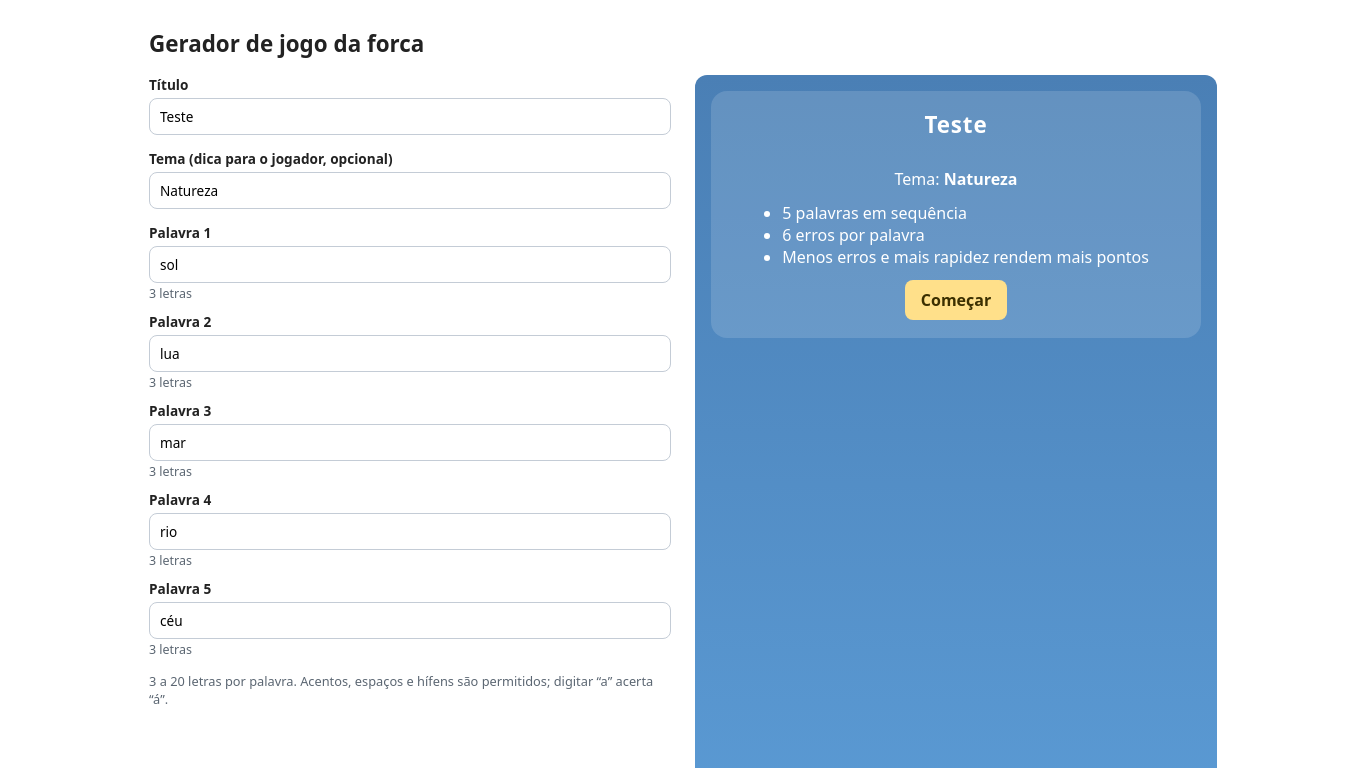
Test case: forca como módulo › palavra inválida desabilita o Salvar
The image size is (1366, 768).
Replace the text in the field labelled "Palavra 1" with "ab": (410, 264) [149, 246, 671, 283]
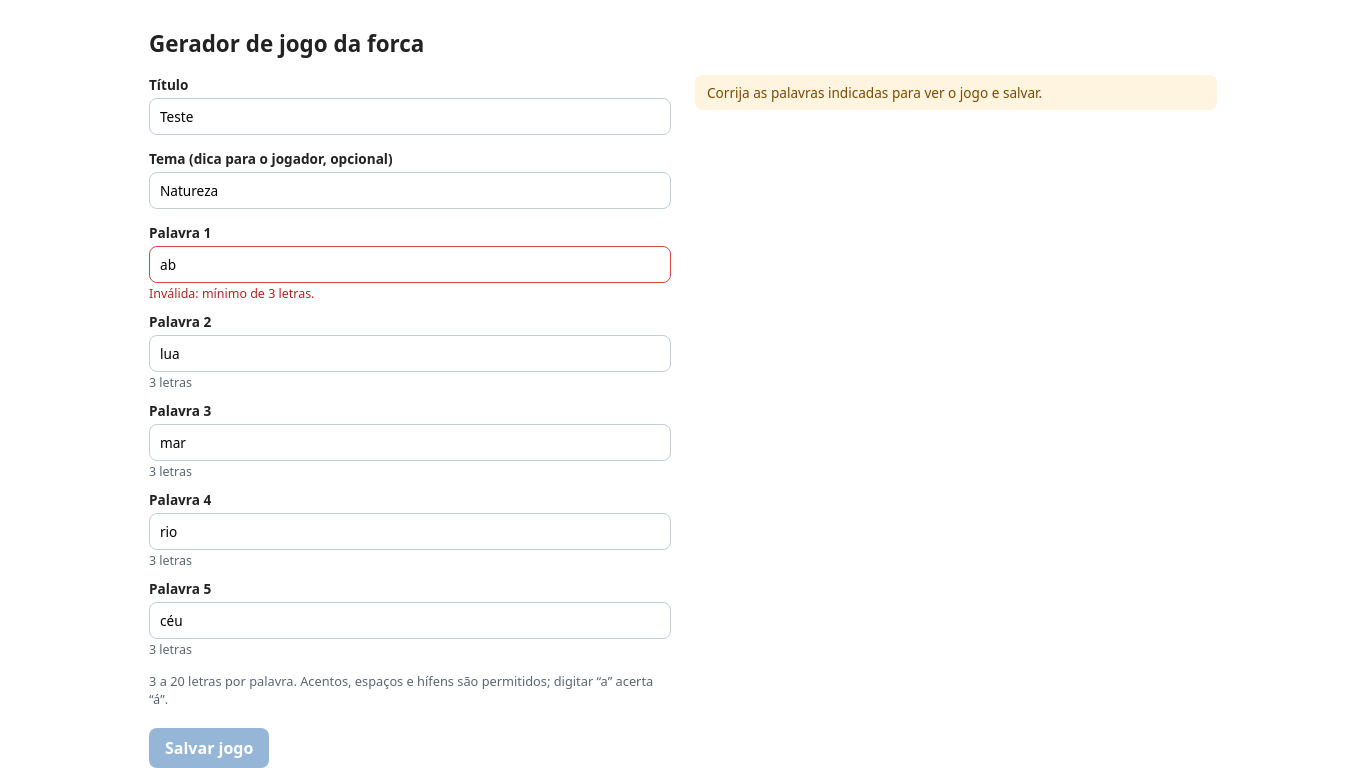
expect the button "Salvar jogo" is disabled: met, box [149, 728, 269, 767]
